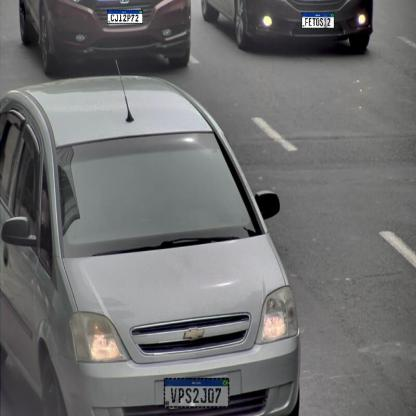PlacaM: (164, 378, 229, 408), (301, 12, 334, 29), (107, 10, 143, 23)
